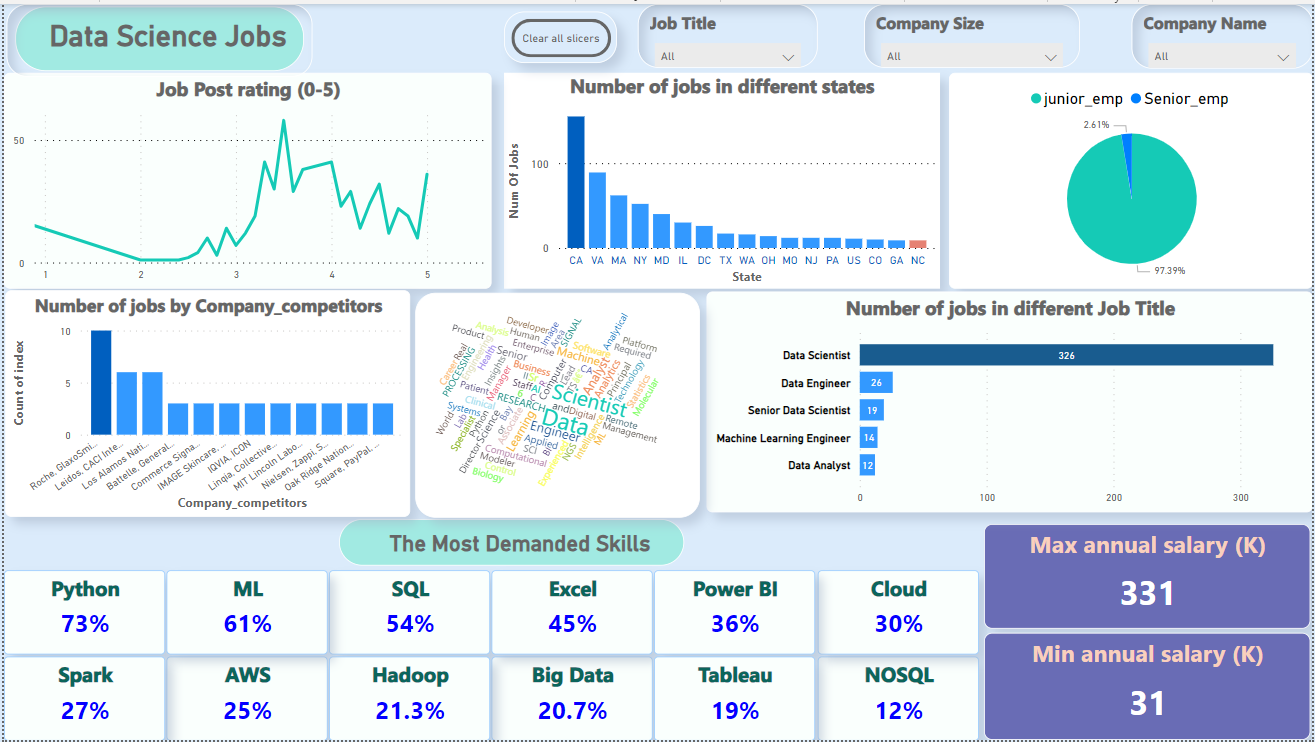

Layout of this report page (visuals, bound fields, positions):
{"tool":"powerbi","page":{"name":"Page 1","canvas":[1280,720],"ordinal":0},"visuals":[{"type":"card","title":"AWS","fields":{"Values":["Data_science_Job1.PercentageAWS"]},"box":[159,637.5,157.7,82.3],"z":0},{"type":"card","title":"Python","fields":{"Values":["Data_science_Job1.PercentagePY"]},"box":[0,553.9,157.7,82.3],"z":1000},{"type":"card","title":"NOSQL","fields":{"Values":["Data_science_Job1.PercentageNS"]},"box":[795.2,637.5,157.7,82.3],"z":2000},{"type":"card","title":"SQL","fields":{"Values":["Data_science_Job1.PercentageSQL"]},"box":[318.1,553.9,157.7,82.3],"z":3000},{"type":"card","title":"Spark","fields":{"Values":["Data_science_Job1.PercentageSP"]},"box":[0,637.5,157.7,82.3],"z":4000},{"type":"card","title":"Big Data","fields":{"Values":["Data_science_Job1.PercentageBD"]},"box":[477.1,637.5,157.7,82.3],"z":5000},{"type":"card","title":"Excel","fields":{"Values":["Data_science_Job1.PercentageEX"]},"box":[477.1,553.9,157.7,82.3],"z":6000},{"type":"card","title":"Hadoop","fields":{"Values":["Data_science_Job1.PercentageHAD"]},"box":[318.1,637.5,157.7,82.3],"z":7000},{"type":"card","title":"Cloud","fields":{"Values":["Data_science_Job1.PercentageCL"]},"box":[795.2,553.9,157.7,82.3],"z":8000},{"type":"card","title":"Power BI","fields":{"Values":["Data_science_Job1.PercentageBI"]},"box":[636.2,553.9,157.7,82.3],"z":9000},{"type":"card","title":"Tableau","fields":{"Values":["Data_science_Job1.PercentageTAB"]},"box":[636.2,637.5,157.7,82.3],"z":10000},{"type":"card","title":"ML","fields":{"Values":["Data_science_Job1.PercentageML"]},"box":[159,553.9,157.7,82.3],"z":11000},{"type":"card","title":"Max annual salary (K)","fields":{"Values":["Max(Data_science_Job1.max_salary)"]},"box":[958.4,508.5,319,102.7],"z":12000},{"type":"textbox","box":[0,71,158,150],"z":13000},{"type":"textbox","box":[327.6,503.6,337.4,45.2],"z":14000},{"type":"card","title":"Min annual salary (K)","fields":{"Values":["Min(Data_science_Job1.min_salary)"]},"box":[958.4,614.9,319,105.1],"z":15000},{"type":"clusteredColumnChart","title":"Number of jobs in different states","fields":{"Category":["Data_science_Job1.State"],"Y":["CountNonNull(Data_science_Job1.index)"]},"box":[489,67.2,426.6,211.5],"z":16000},{"type":"pieChart","fields":{"Category":["Data_science_Job1.Employee expriece"],"Y":["CountNonNull(Data_science_Job1.index)"]},"box":[924.1,67.2,355.7,211.5],"z":17000},{"type":"lineChart","title":"Job Post rating (0-5)","fields":{"Category":["Data_science_Job1.Job_post_rating"],"Y":["CountNonNull(Data_science_Job1.Job_post_rating)"]},"box":[0,67.2,476.7,211.5],"z":18000},{"type":"clusteredBarChart","title":"Number of jobs in different Job Title","fields":{"Category":["Data_science_Job1.Job_title"],"Y":["CountNonNull(Data_science_Job1.index)"]},"box":[687,281.2,592.9,216.4],"z":19000},{"type":"textbox","box":[11,2.4,282.4,63.6],"z":20000},{"type":"slicer","title":"Job Title","fields":{"Values":["Data_science_Job1.Job_title"]},"box":[619.8,0,176,62.3],"z":21000},{"type":"slicer","title":"Company Size","fields":{"Values":["Data_science_Job1.Company_size"]},"box":[841,0,211.5,62.3],"z":22000},{"type":"slicer","title":"Company Name","fields":{"Values":["Data_science_Job1.Company_Name"]},"box":[1102.6,0,177.2,63.6],"z":23000},{"type":"clusteredColumnChart","title":"Number of jobs by Company_competitors","fields":{"Category":["Data_science_Job1.Company_competitors"],"Y":["CountNonNull(Data_science_Job1.index)"]},"box":[1.2,279.9,396.1,221.3],"z":24000},{"type":"actionButton","box":[489,7.3,110,50.1],"z":25000},{"type":"shape","box":[2.4,0,299.5,70.9],"z":26000},{"type":"WordCloud1447959067750","fields":{"Category":["Data_science_Job1.Job_title"]},"box":[402.2,282.4,278.7,220],"z":26001}]}

Visuals, with their boxes in screenshot pixels (x1, y1, x2, y2), scaled from the page's 1280x720 canvas onto the 1315x742 screenshot:
"AWS" card: pyautogui.locateOnScreen(163, 657, 325, 741)
"Python" card: pyautogui.locateOnScreen(0, 571, 162, 656)
"NOSQL" card: pyautogui.locateOnScreen(817, 657, 979, 741)
"SQL" card: pyautogui.locateOnScreen(327, 571, 489, 656)
"Spark" card: pyautogui.locateOnScreen(0, 657, 162, 741)
"Big Data" card: pyautogui.locateOnScreen(490, 657, 652, 741)
"Excel" card: pyautogui.locateOnScreen(490, 571, 652, 656)
"Hadoop" card: pyautogui.locateOnScreen(327, 657, 489, 741)
"Cloud" card: pyautogui.locateOnScreen(817, 571, 979, 656)
"Power BI" card: pyautogui.locateOnScreen(654, 571, 816, 656)
"Tableau" card: pyautogui.locateOnScreen(654, 657, 816, 741)
"ML" card: pyautogui.locateOnScreen(163, 571, 325, 656)
"Max annual salary (K)" card: pyautogui.locateOnScreen(985, 524, 1312, 630)
textbox: pyautogui.locateOnScreen(0, 73, 162, 228)
textbox: pyautogui.locateOnScreen(337, 519, 683, 566)
"Min annual salary (K)" card: pyautogui.locateOnScreen(985, 634, 1312, 741)
"Number of jobs in different states" clusteredColumnChart: pyautogui.locateOnScreen(502, 69, 941, 287)
pieChart - Data_science_Job1.Employee expriece x CountNonNull(Data_science_Job1.index): pyautogui.locateOnScreen(949, 69, 1314, 287)
"Job Post rating (0-5)" lineChart: pyautogui.locateOnScreen(0, 69, 490, 287)
"Number of jobs in different Job Title" clusteredBarChart: pyautogui.locateOnScreen(706, 290, 1314, 513)
textbox: pyautogui.locateOnScreen(11, 2, 301, 68)
"Job Title" slicer: pyautogui.locateOnScreen(637, 0, 818, 64)
"Company Size" slicer: pyautogui.locateOnScreen(864, 0, 1081, 64)
"Company Name" slicer: pyautogui.locateOnScreen(1133, 0, 1314, 66)
"Number of jobs by Company_competitors" clusteredColumnChart: pyautogui.locateOnScreen(1, 288, 408, 517)
actionButton: pyautogui.locateOnScreen(502, 8, 615, 59)
shape: pyautogui.locateOnScreen(2, 0, 310, 73)
WordCloud1447959067750 - Data_science_Job1.Job_title: pyautogui.locateOnScreen(413, 291, 700, 518)
